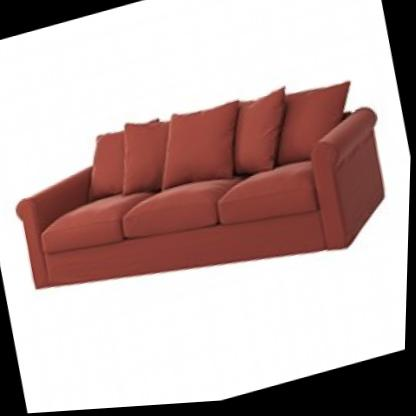Sofa: (0, 32, 405, 343)
